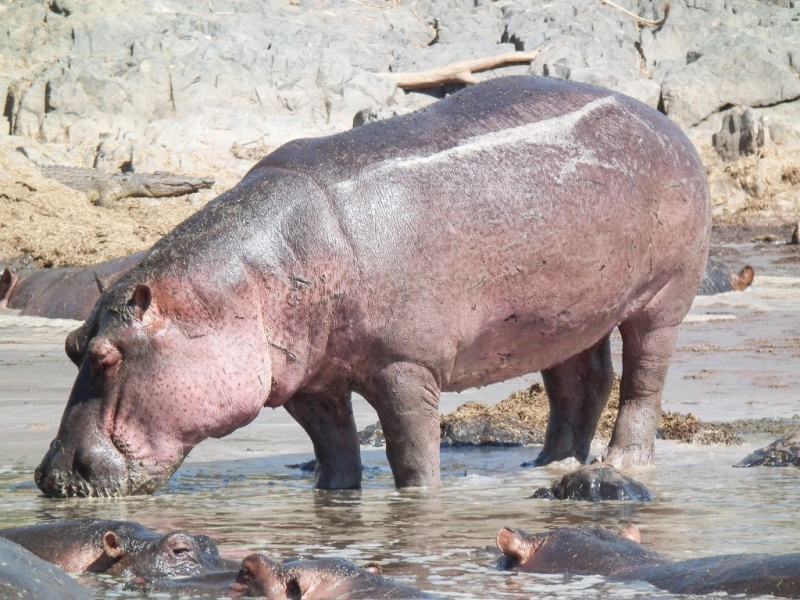hipopotamo: (34, 74, 716, 507)
